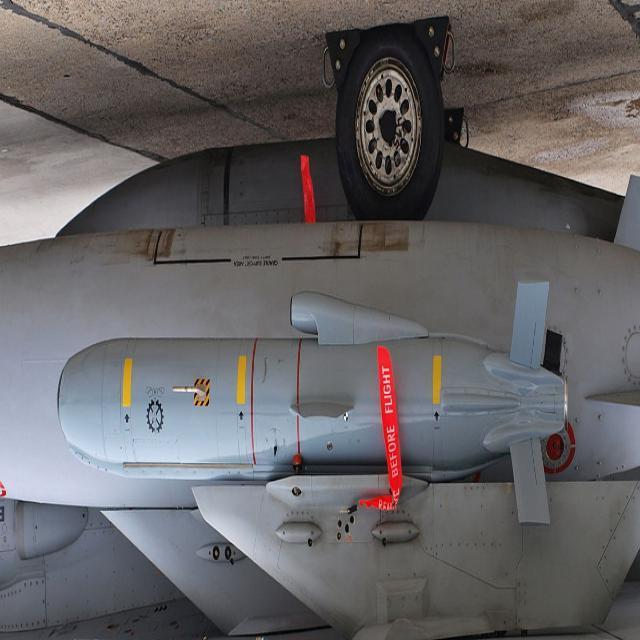Missile: (46, 334, 581, 474)
